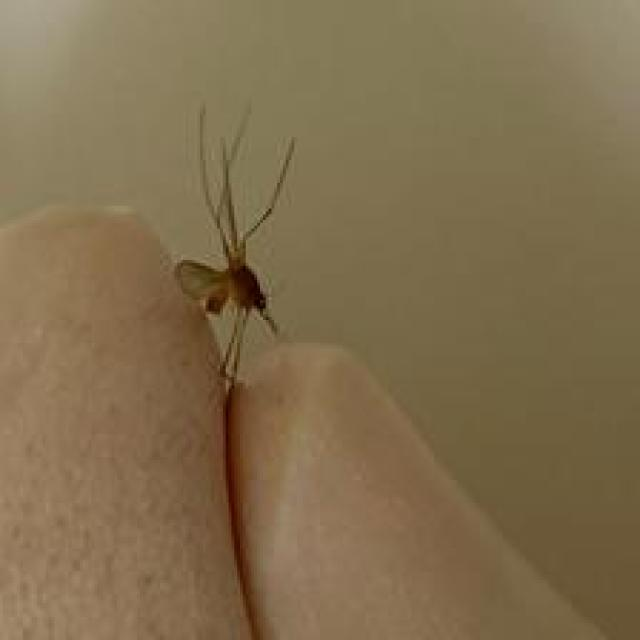Culex: (172, 100, 297, 389)
